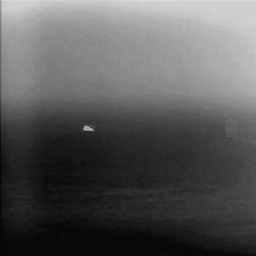Target: (83, 124, 95, 132)
